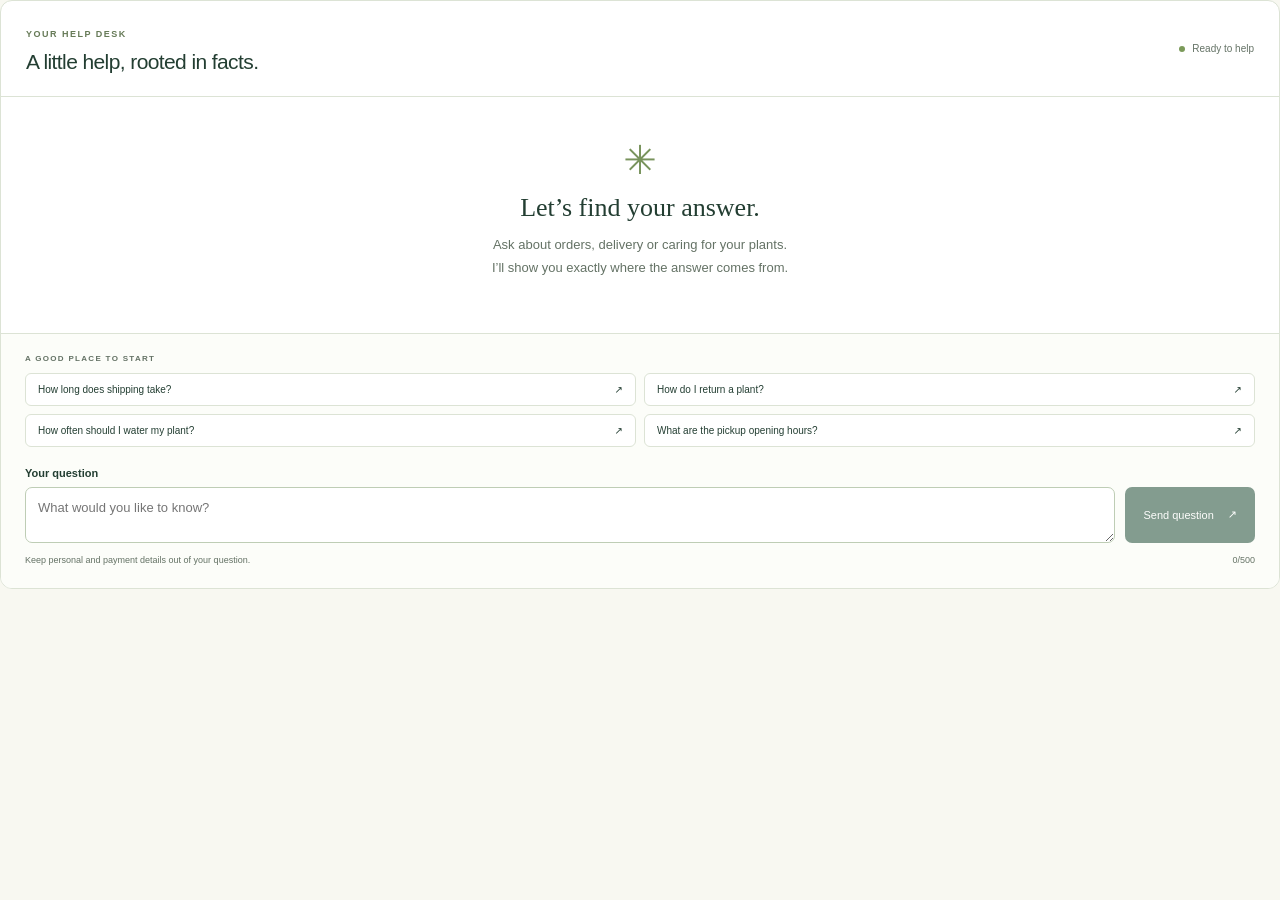
Scenario: limits input and reports generator failure
The width and height of the screenshot is (1280, 900).
Step 1. Type "shipping" into the text box labelled "Your question" → (570, 515), box [25,487,1115,543]
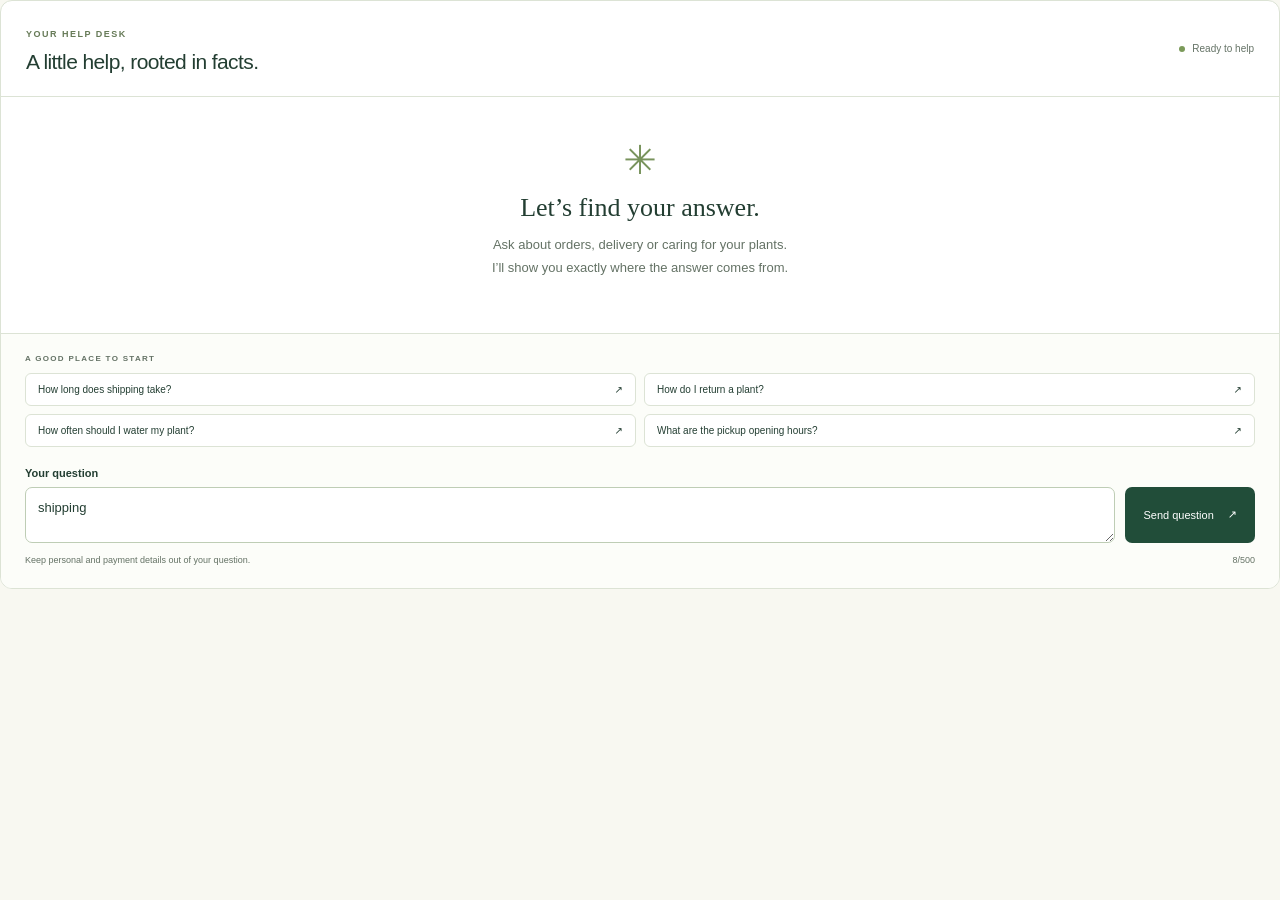
Expected: the text "8/500" is shown, [1232,553,1255,568]
Step 2. Click the button "Send question ↗" → click(1190, 515), box [1125,487,1255,543]
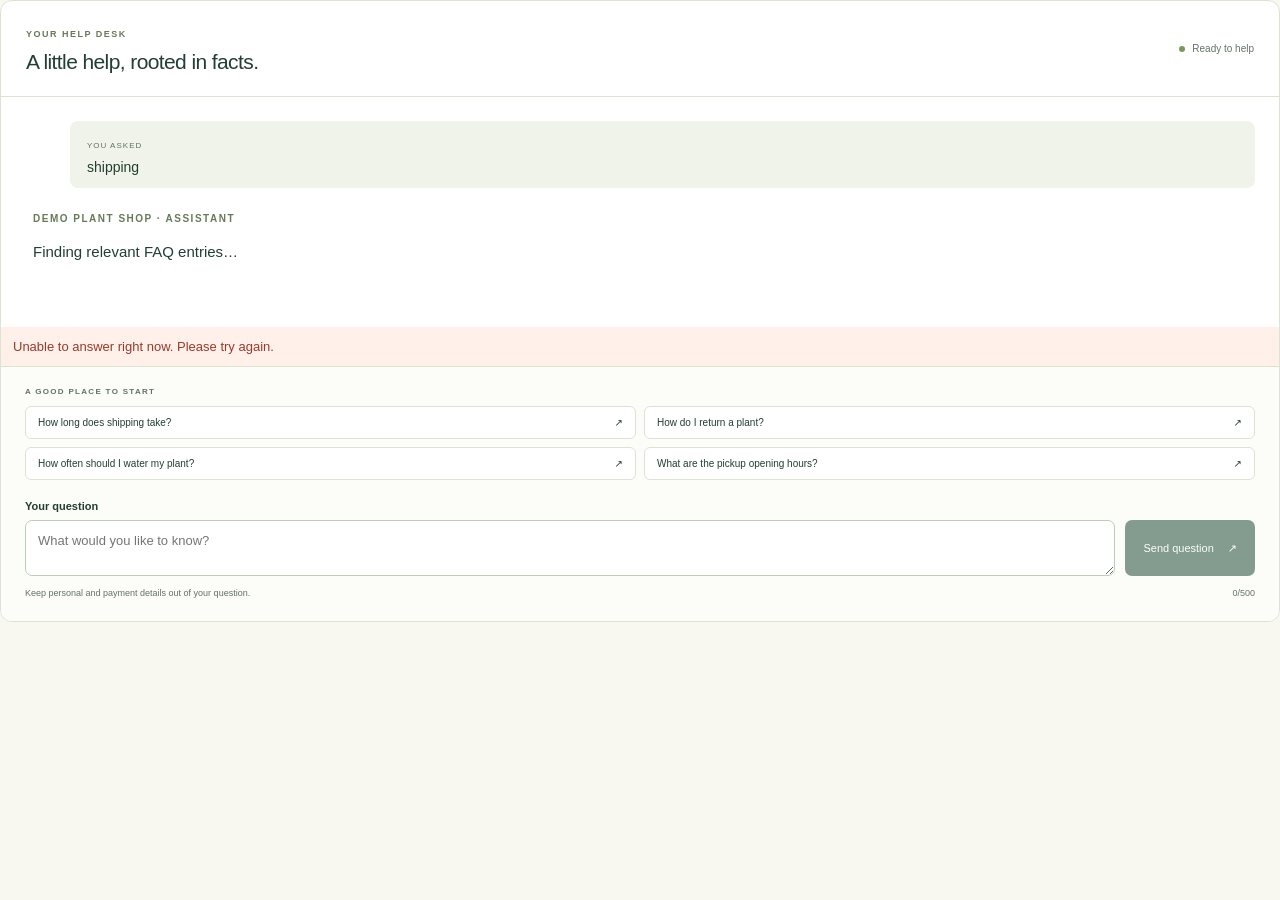
Expected: the message does not show "private detail", [1,327,1279,366]
Expected: the message shows "Unable to answer", [13,339,274,354]
